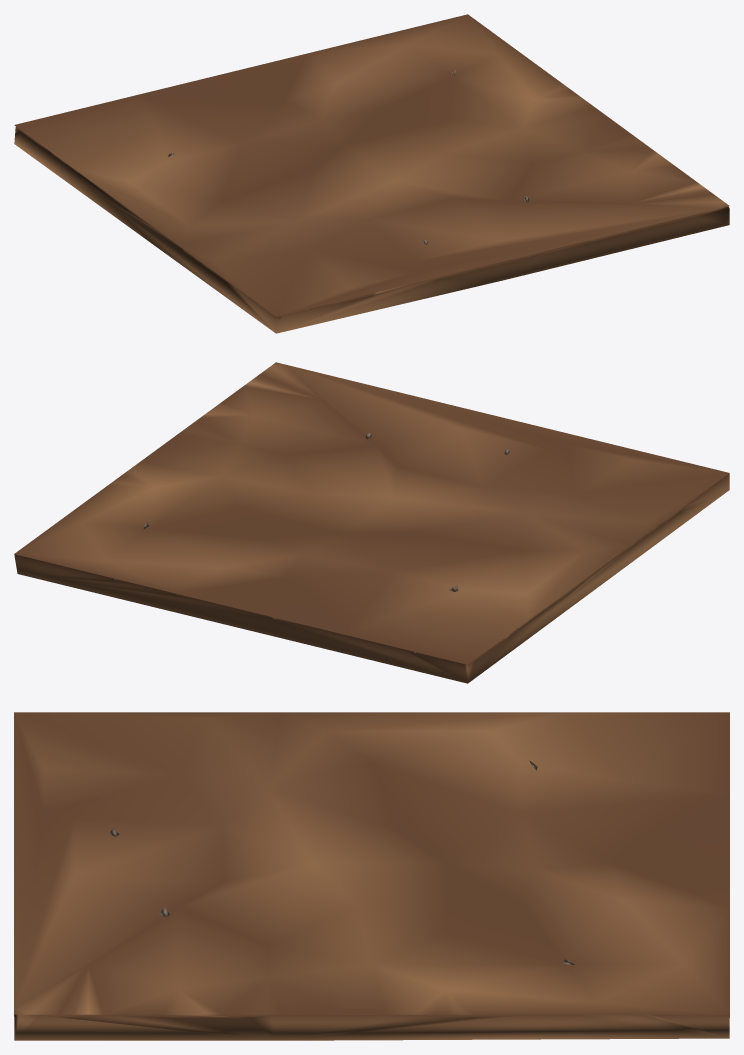
Rendered from dirt-ground.glb.
3 renders of one model, top to bottom at view 1: azimuth 30°, elevation 25°; view 2: azimuth 150°, elevation 25°; view 3: azimuth 270°, elevation 25°, orthographic. The views are drawn at different scales.
Parts seen in each view (by area): view 1: dirt-top, dirt; view 2: dirt-top, dirt; view 3: dirt-top, dirt.
Part boxes in pixels (x1,y1,x2,y2): dirt-top: [14, 14, 729, 316]; dirt: [14, 127, 729, 333]; dirt-top: [14, 362, 729, 664]; dirt: [14, 473, 729, 683]; dirt-top: [14, 712, 729, 1014]; dirt: [14, 1014, 729, 1040].
Size of the model in its own units: 2 by 0.1073 by 2.
